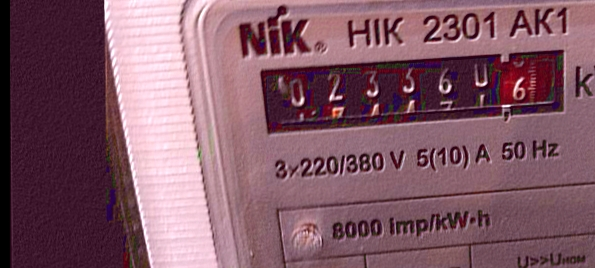0: (287, 75, 309, 109), (469, 58, 492, 90)
2: (325, 69, 346, 102)
3: (399, 61, 419, 95), (361, 68, 381, 99)
6: (434, 63, 456, 96), (510, 71, 531, 104)
screen: (244, 40, 583, 139)
